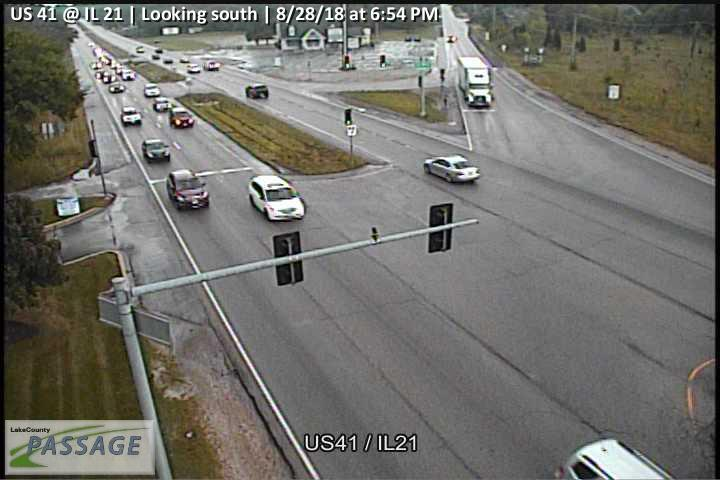SUV: (555, 435, 675, 480), (247, 173, 306, 222), (165, 168, 211, 212), (141, 138, 172, 163), (120, 105, 144, 126), (245, 82, 270, 99), (186, 62, 201, 74)
Sedan: (456, 55, 494, 107), (423, 154, 481, 183), (170, 108, 196, 130), (154, 96, 171, 112), (143, 82, 161, 97), (108, 82, 126, 93)
Truck: (204, 59, 221, 72)
